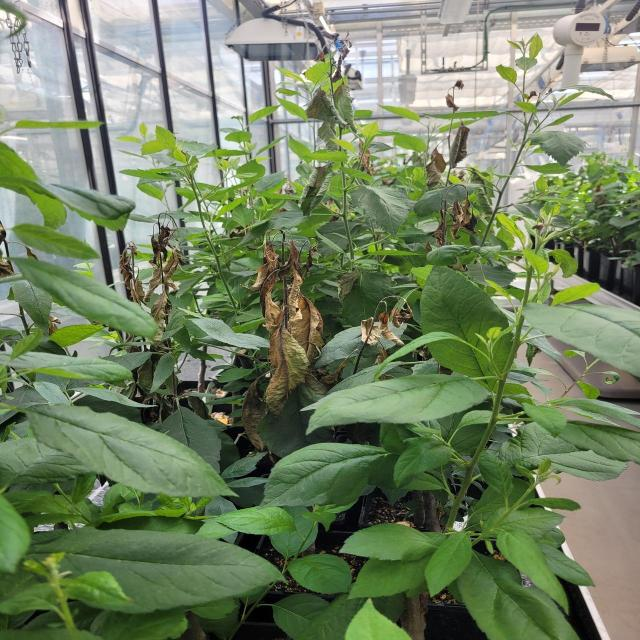-FireBlight-: (245, 231, 327, 442), (115, 207, 186, 342), (416, 77, 478, 187), (424, 178, 486, 257), (359, 285, 422, 358)
